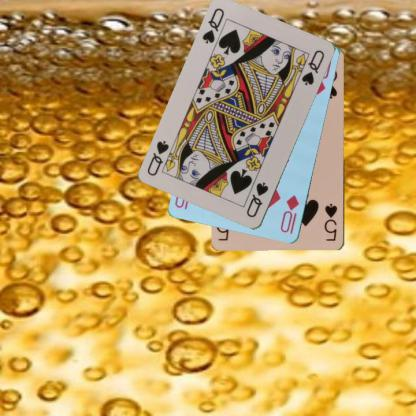10d: (278, 192, 300, 236)
5s: (322, 201, 339, 242)
Qs: (199, 5, 226, 46), (244, 180, 270, 220)
